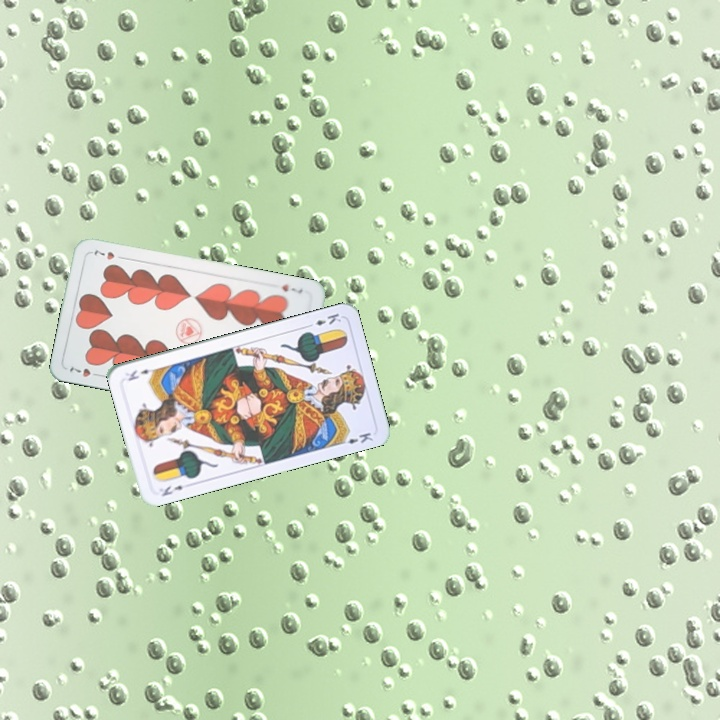EK: (303, 309, 344, 330), (158, 481, 186, 499)
H7: (65, 361, 104, 380), (278, 280, 305, 297)
